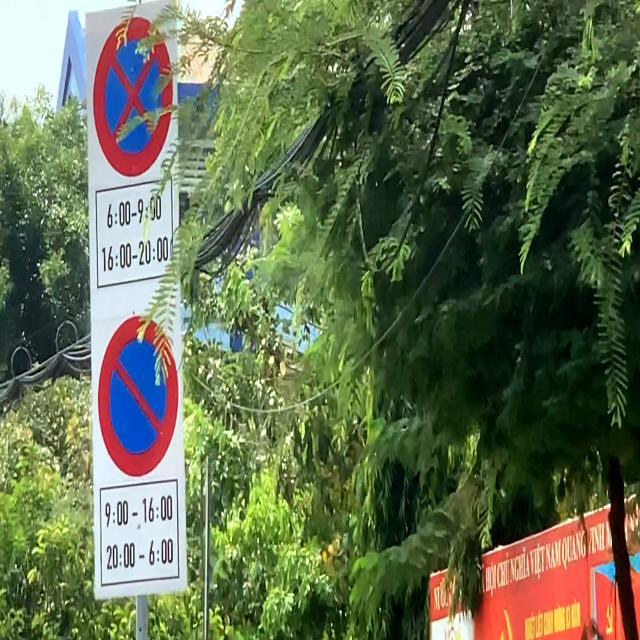P-130: (95, 14, 172, 177)
P-131a: (99, 316, 177, 478)
